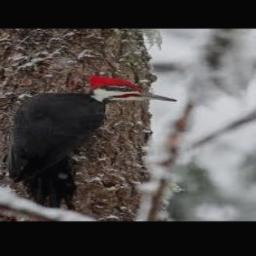Woodpecker: (15, 75, 177, 209)
